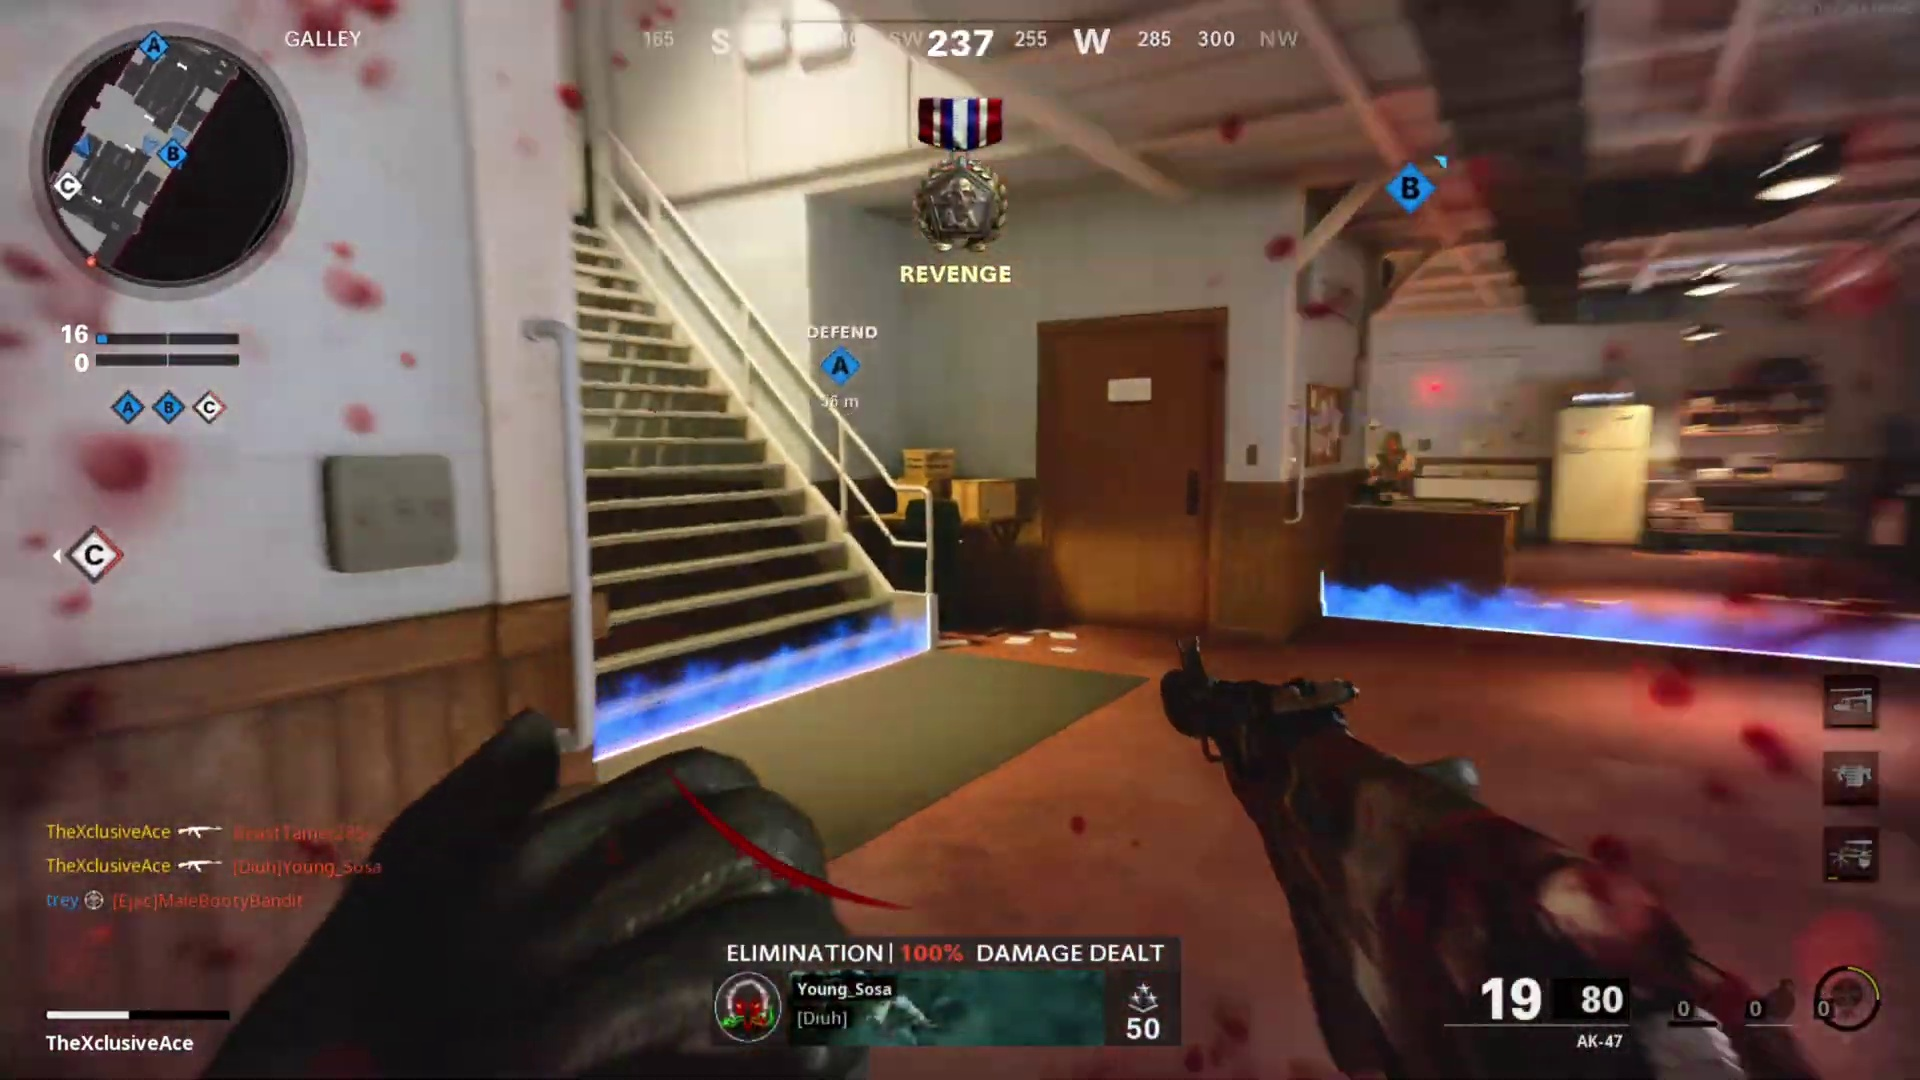head: (1376, 429, 1410, 473)
person: (1364, 429, 1411, 494)
